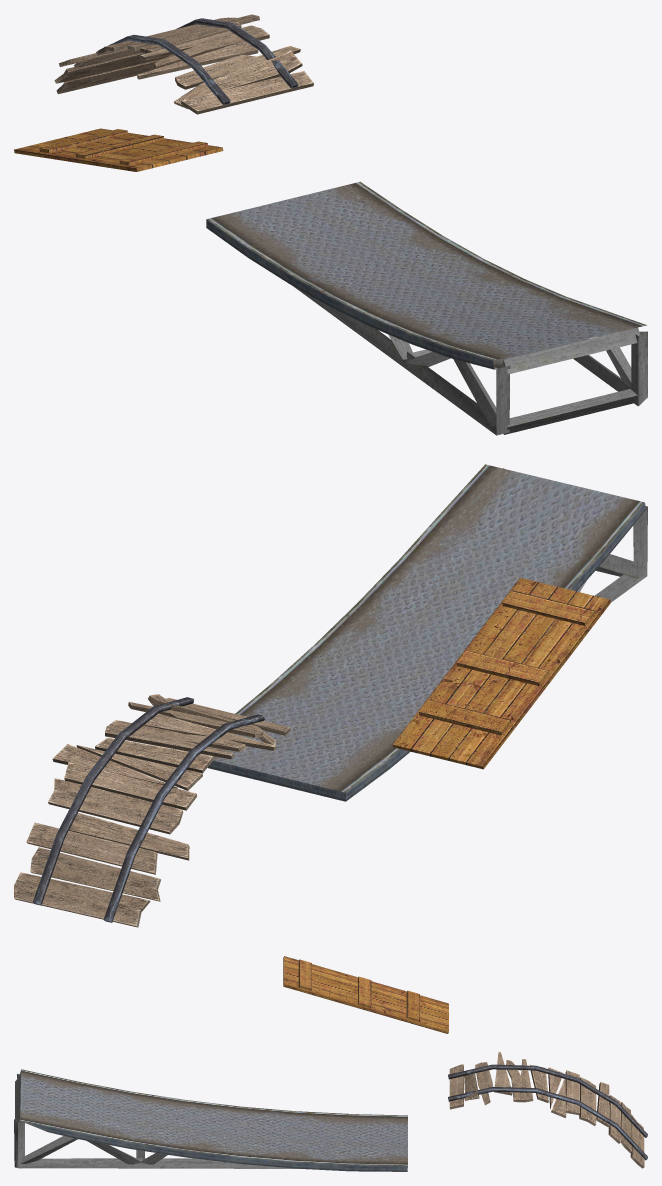
File: ContainersRampsStunts.fbx
The picture shows the model from 3 angles, top to bottom: view 1: azimuth 30°, elevation 25°; view 2: azimuth 150°, elevation 25°; view 3: azimuth 270°, elevation 25°; orthographic projection. The views are drawn at different scales.
Visible parts, largest first — view 1: Object014, Panel6M_80, _15__, Box005; view 2: Object014, Panel6M_80, Box005, _15__; view 3: Object014, Panel6M_80, Box005, _15__.
Part boxes in pixels (x1,y1,x2,y2): Object014: (206, 181, 646, 369); Panel6M_80: (54, 14, 313, 114); _15__: (293, 286, 647, 435); Box005: (14, 128, 223, 171); Object014: (207, 464, 645, 801); Panel6M_80: (14, 694, 290, 927); Box005: (392, 577, 610, 769); _15__: (503, 468, 647, 602); Object014: (19, 1069, 407, 1171); Panel6M_80: (448, 1051, 647, 1168); Box005: (283, 956, 448, 1033); _15__: (14, 1074, 298, 1168).
Size of the model in its own units: 6.84 by 3.35 by 17.11.
